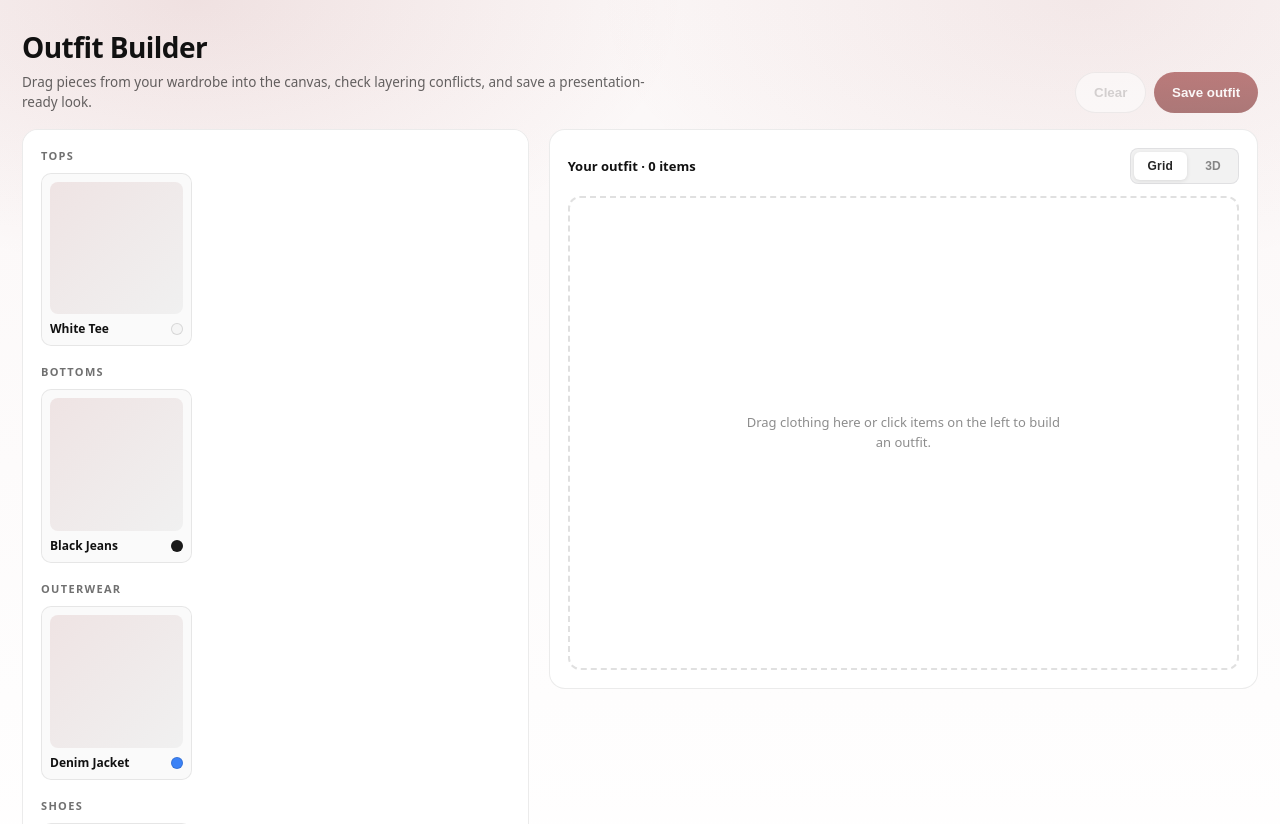
OutfitBuilder › prevents saving when layering conflicts exist
Click the button "Denim Jacket".
click(116, 693)  # box [41, 606, 192, 780]
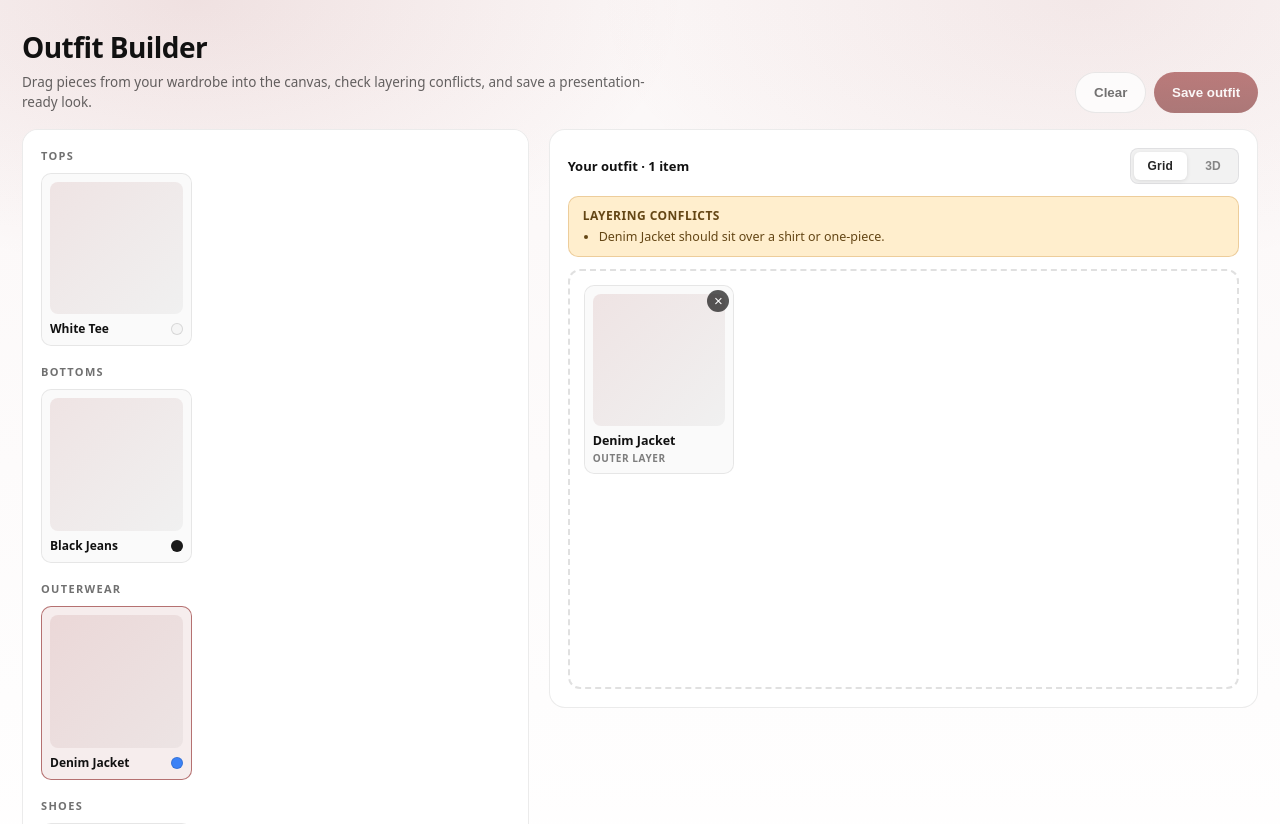
Expected: the button "Save outfit" is disabled, [1154, 72, 1258, 112]
Expected: the text "Layering conflicts" is shown, [583, 206, 720, 224]
Expected: the list item "Denim Jacket should sit over a shirt or one-piece." is shown, [599, 228, 885, 244]
